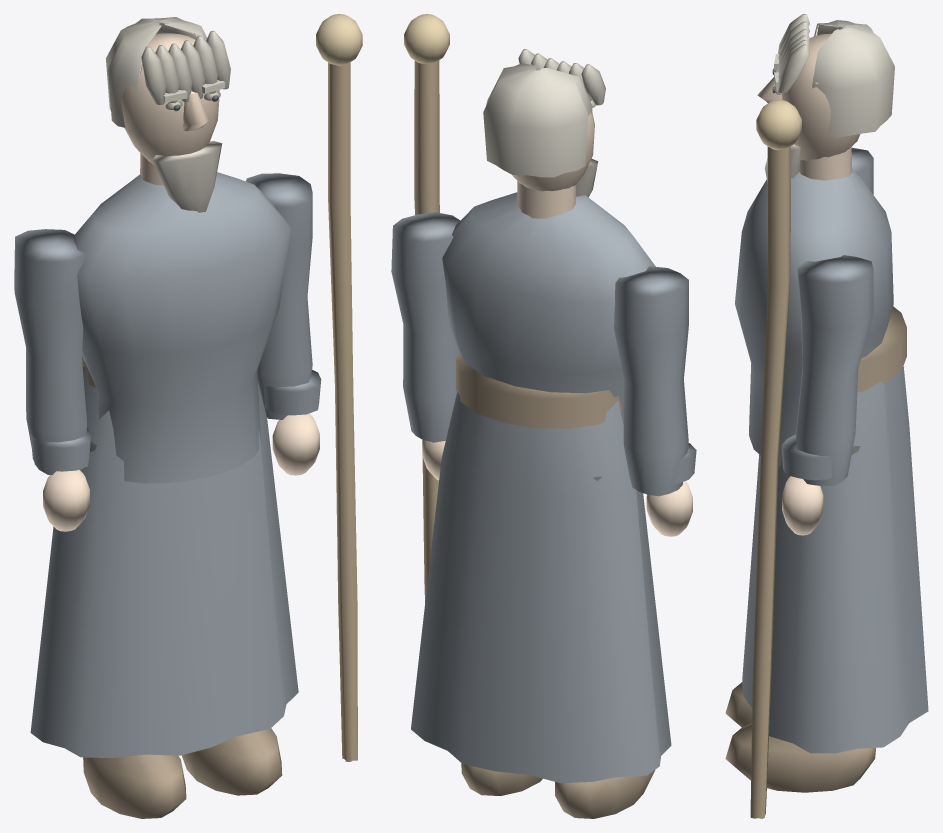
3 views of the same model, side by side, from view 1: azimuth 30°, elevation 25°; view 2: azimuth 150°, elevation 25°; view 3: azimuth 270°, elevation 25° (orthographic). The views are drawn at different scales.
Parts seen in each view (by area): view 1: Body; view 2: Body; view 3: Body.
Boxes of the visible parts, <box> form: Body: <box>14,14,362,818</box>; Body: <box>391,14,696,818</box>; Body: <box>725,14,928,818</box>.
Bounding box in the file's own units: 0.7475 × 1.72 × 0.4342.
